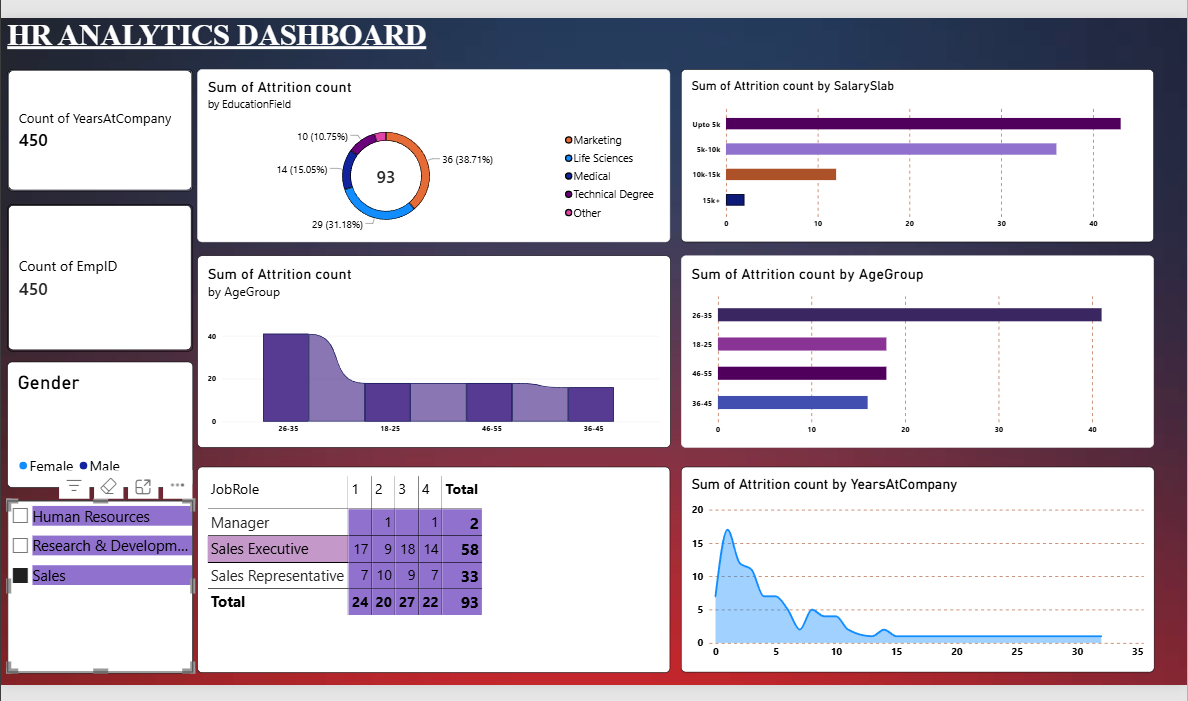

This screenshot's page, from the dashboard's own definition file:
{"tool":"powerbi","page":{"name":"Page 1","canvas":[1920,1080],"ordinal":0},"visuals":[{"type":"textbox","box":[10.3,0,714.2,279.9],"z":0},{"type":"cardVisual","fields":{"Data":["CountNonNull(Sheet1.YearsAtCompany)"]},"box":[10.3,82.3,300.5,197.6],"z":1},{"type":"cardVisual","fields":{"Data":["CountNonNull(Sheet1.EmpID)"]},"box":[10.3,300.5,300.5,238.8],"z":2},{"type":"treemap","fields":{"Group":["Sheet1.Gender"]},"box":[10.3,555.7,300.5,203.8],"z":3},{"type":"donutChart","fields":{"Category":["Sheet1.EducationField"],"Y":["Sum(Sheet1.Attrition count)"]},"box":[317,82.3,765.7,279.9],"z":4},{"type":"columnChart","fields":{"Category":["Sheet1.AgeGroup"],"Y":["Sum(Sheet1.Attrition count)"]},"box":[317,384.9,766,311],"z":5},{"type":"pivotTable","title":"Matrix","fields":{"Columns":["Sheet1.JobSatisfaction"],"Rows":["Sheet1.JobRole"],"Values":["Sum(Sheet1.Attrition count)"]},"box":[317,726.6,765.7,333.4],"z":6},{"type":"slicer","fields":{"Values":["Sheet1.Department"]},"box":[10.3,780.1,300.5,279.9],"z":7},{"type":"barChart","fields":{"Category":["Sheet1.SalarySlab"],"Y":["Sum(Sheet1.Attrition count)"]},"box":[1101.2,82.3,765.7,279.9],"z":8},{"type":"barChart","fields":{"Category":["Sheet1.AgeGroup"],"Y":["Sum(Sheet1.Attrition count)"]},"box":[1101.2,384.9,765.7,310.8],"z":9},{"type":"areaChart","fields":{"Category":["Sheet1.YearsAtCompany"],"Y":["Sum(Sheet1.Attrition count)"]},"box":[1101,727,766,333],"z":10}]}

Visuals, with their boxes in screenshot pixels (x1, y1, x2, y2):
textbox: box(6, 22, 442, 192)
cardVisual - CountNonNull(Sheet1.YearsAtCompany): box(6, 72, 190, 192)
cardVisual - CountNonNull(Sheet1.EmpID): box(6, 205, 190, 351)
treemap - Sheet1.Gender: box(6, 361, 190, 485)
donutChart - Sheet1.EducationField x Sum(Sheet1.Attrition count): box(193, 72, 661, 243)
columnChart - Sheet1.AgeGroup x Sum(Sheet1.Attrition count): box(193, 257, 661, 446)
"Matrix" pivotTable: box(193, 465, 661, 668)
slicer - Sheet1.Department: box(6, 498, 190, 668)
barChart - Sheet1.SalarySlab x Sum(Sheet1.Attrition count): box(672, 72, 1139, 243)
barChart - Sheet1.AgeGroup x Sum(Sheet1.Attrition count): box(672, 257, 1139, 446)
areaChart - Sheet1.YearsAtCompany x Sum(Sheet1.Attrition count): box(672, 465, 1139, 668)
